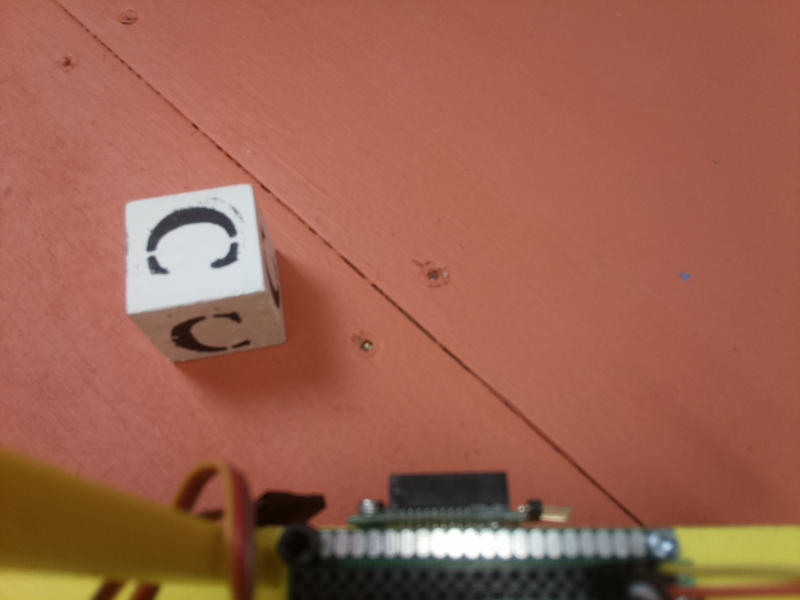blockC: (123, 182, 291, 365)
